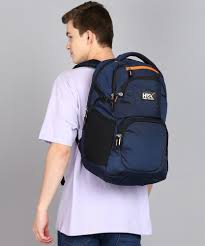backpack: (72, 51, 168, 186)
